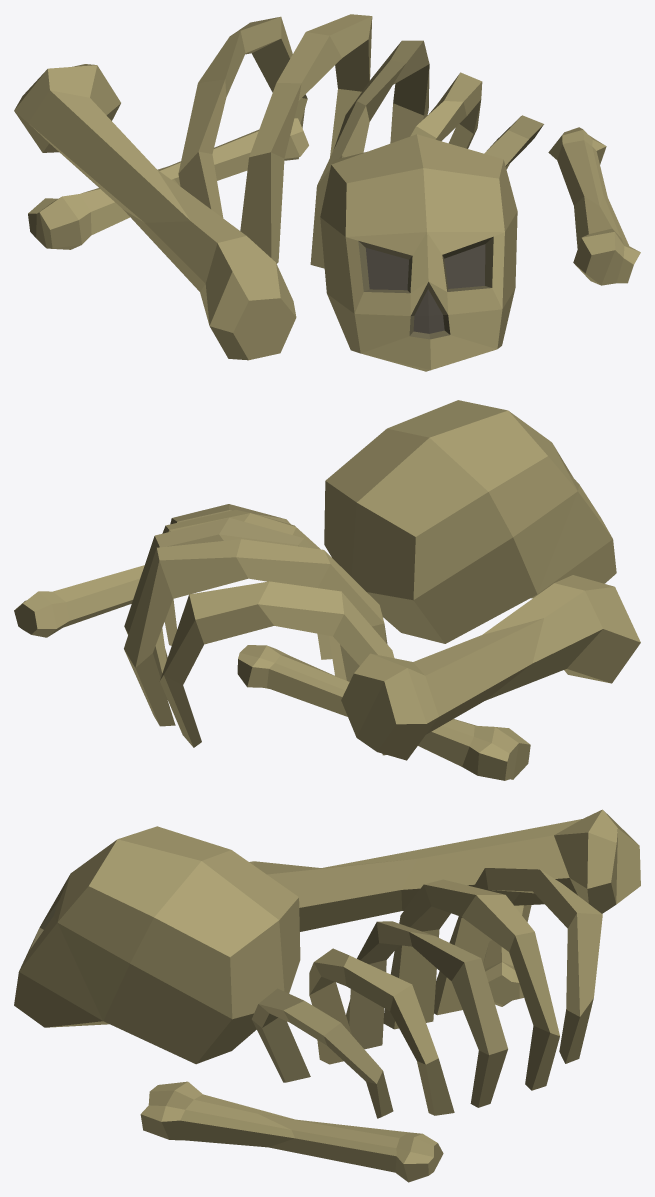
File: Sceleton_5.fbx
3 views of the same model, one above another, from view 1: azimuth 30°, elevation 25°; view 2: azimuth 150°, elevation 25°; view 3: azimuth 270°, elevation 25° (orthographic). The views are drawn at different scales.
Parts seen in each view (by area): view 1: Sceleton_5; view 2: Sceleton_5; view 3: Sceleton_5.
Part boxes in pixels (<box>): Sceleton_5: <box>14,14,640,371</box>; Sceleton_5: <box>14,400,640,780</box>; Sceleton_5: <box>14,809,640,1182</box>.
Bounding box in the file's own units: 58.43 × 20.42 × 59.38.
